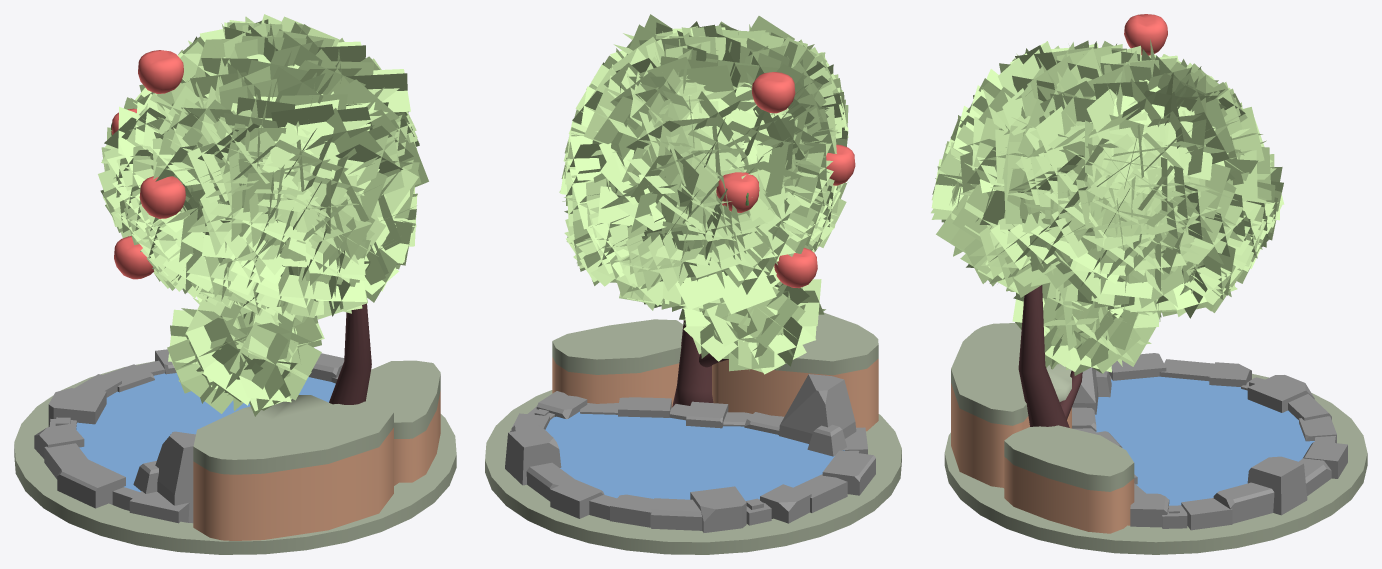
File: WaterPool.fbx
3 views of the same model, side by side, from view 1: azimuth 30°, elevation 25°; view 2: azimuth 150°, elevation 25°; view 3: azimuth 270°, elevation 25° (orthographic). The views are drawn at different scales.
Visible parts, largest first — view 1: leaf.001, Pool_mountain, Pool_Land_base, Pool_stone, leaf.003, Water, leaf.231, Pool_mountain.001, Tree_Body, Apple.003, Apple.001, Apple.004; view 2: leaf.001, Pool_stone, Water, Pool_Land_base, leaf.231, Pool_mountain.001, Pool_mountain, leaf.003, Tree_Body, Apple.003, Apple.002, Apple.004 (+1 smaller); view 3: leaf.001, Water, Pool_stone, Pool_Land_base, Pool_mountain.001, Pool_mountain, leaf.231, leaf.003, Tree_Body, Apple.003.
Part boxes in pixels (left/top/right/bottom): leaf.001: left=98, top=14, right=428, bottom=321; Pool_mountain: left=193, top=395, right=393, bottom=540; Pool_Land_base: left=14, top=361, right=456, bottom=554; Pool_stone: left=34, top=349, right=344, bottom=523; leaf.003: left=167, top=296, right=324, bottom=416; Water: left=76, top=373, right=335, bottom=491; leaf.231: left=98, top=15, right=420, bottom=319; Pool_mountain.001: left=365, top=360, right=440, bottom=485; Tree_Body: left=329, top=303, right=371, bottom=404; Apple.003: left=138, top=50, right=183, bottom=93; Apple.001: left=139, top=176, right=185, bottom=218; Apple.004: left=114, top=236, right=154, bottom=279; leaf.001: left=559, top=14, right=848, bottom=314; Pool_stone: left=505, top=374, right=875, bottom=532; Water: left=545, top=411, right=844, bottom=500; Pool_Land_base: left=485, top=390, right=901, bottom=554; leaf.231: left=561, top=15, right=847, bottom=313; Pool_mountain.001: left=552, top=319, right=683, bottom=407; Pool_mountain: left=712, top=312, right=878, bottom=431; leaf.003: left=679, top=279, right=825, bottom=374; Tree_Body: left=672, top=320, right=728, bottom=407; Apple.003: left=752, top=72, right=795, bottom=113; Apple.002: left=716, top=172, right=759, bottom=212; Apple.004: left=774, top=247, right=817, bottom=288; leaf.001: left=931, top=39, right=1284, bottom=321; Water: left=1095, top=376, right=1314, bottom=505; Pool_stone: left=1072, top=353, right=1347, bottom=530; Pool_Land_base: left=944, top=373, right=1367, bottom=554; Pool_mountain.001: left=1004, top=425, right=1134, bottom=533; Pool_mountain: left=951, top=323, right=1071, bottom=488; leaf.231: left=931, top=41, right=1282, bottom=318; leaf.003: left=1012, top=292, right=1161, bottom=375; Tree_Body: left=1018, top=285, right=1082, bottom=427; Apple.003: left=1124, top=14, right=1167, bottom=55.
Size of the model in its own units: 45 by 48.91 by 46.51.
